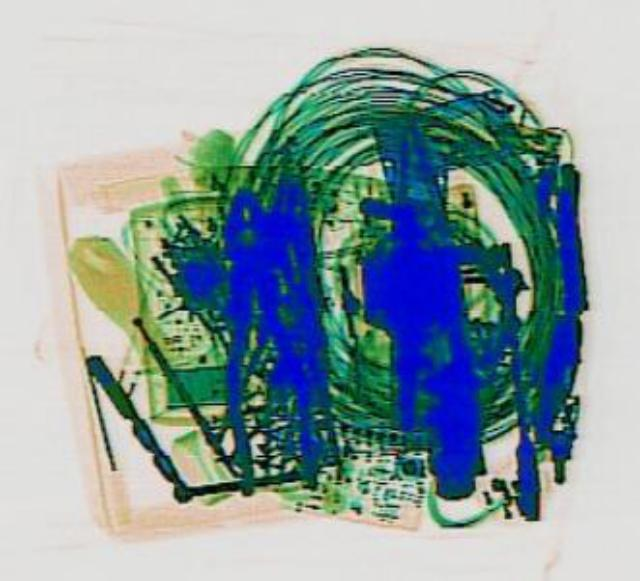Pliers: (198, 181, 316, 494)
